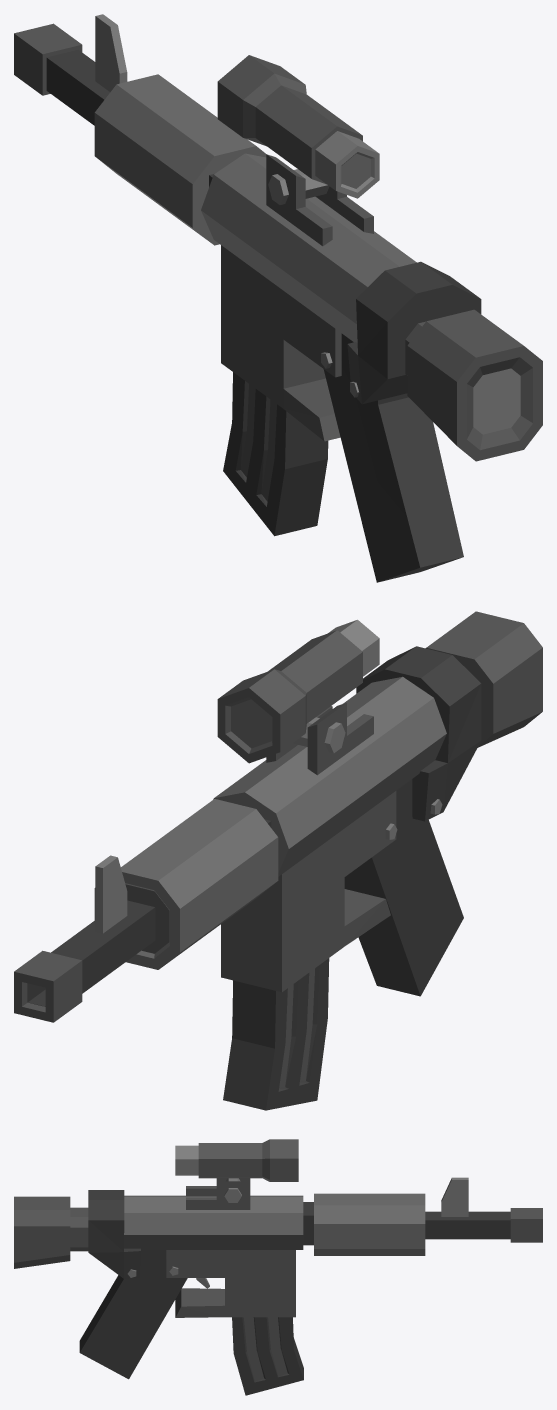
File: subfusil_10.glb
3 renders of one model, top to bottom at view 1: azimuth 30°, elevation 25°; view 2: azimuth 150°, elevation 25°; view 3: azimuth 270°, elevation 25°, orthographic. The views are drawn at different scales.
Parts seen in each view (by area): view 1: subfusil_10, subfusil_scope_10, subfusil_charguer_10; view 2: subfusil_10, subfusil_scope_10, subfusil_charguer_10; view 3: subfusil_10, subfusil_scope_10, subfusil_charguer_10.
Boxes of the visible parts, left/top/right/bottom form: subfusil_10: left=14, top=14, right=542, bottom=582; subfusil_scope_10: left=217, top=55, right=379, bottom=233; subfusil_charguer_10: left=223, top=372, right=328, bottom=536; subfusil_10: left=14, top=611, right=542, bottom=1022; subfusil_scope_10: left=217, top=619, right=379, bottom=763; subfusil_charguer_10: left=223, top=958, right=329, bottom=1110; subfusil_10: left=14, top=1177, right=542, bottom=1379; subfusil_scope_10: left=175, top=1139, right=298, bottom=1209; subfusil_charguer_10: left=232, top=1317, right=303, bottom=1395.
Size of the model in its own units: 0.2637 by 1.19 by 2.27.
Materials: 1 (1 with a texture image).
